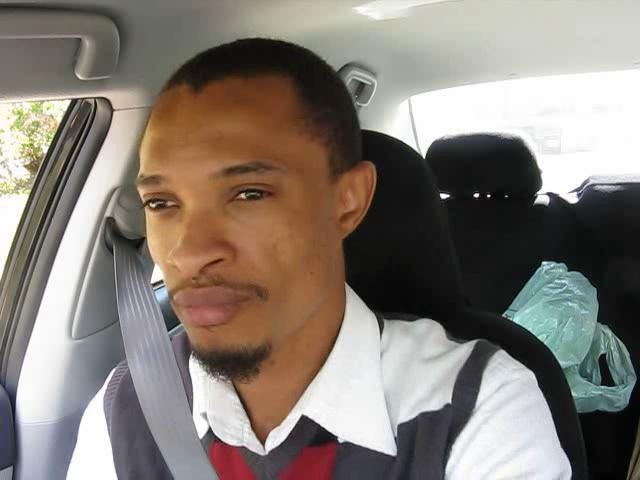close_eyeL: (132, 185, 188, 224)
close_eyeR: (215, 174, 280, 217)
no_yawn: (161, 274, 273, 331)
